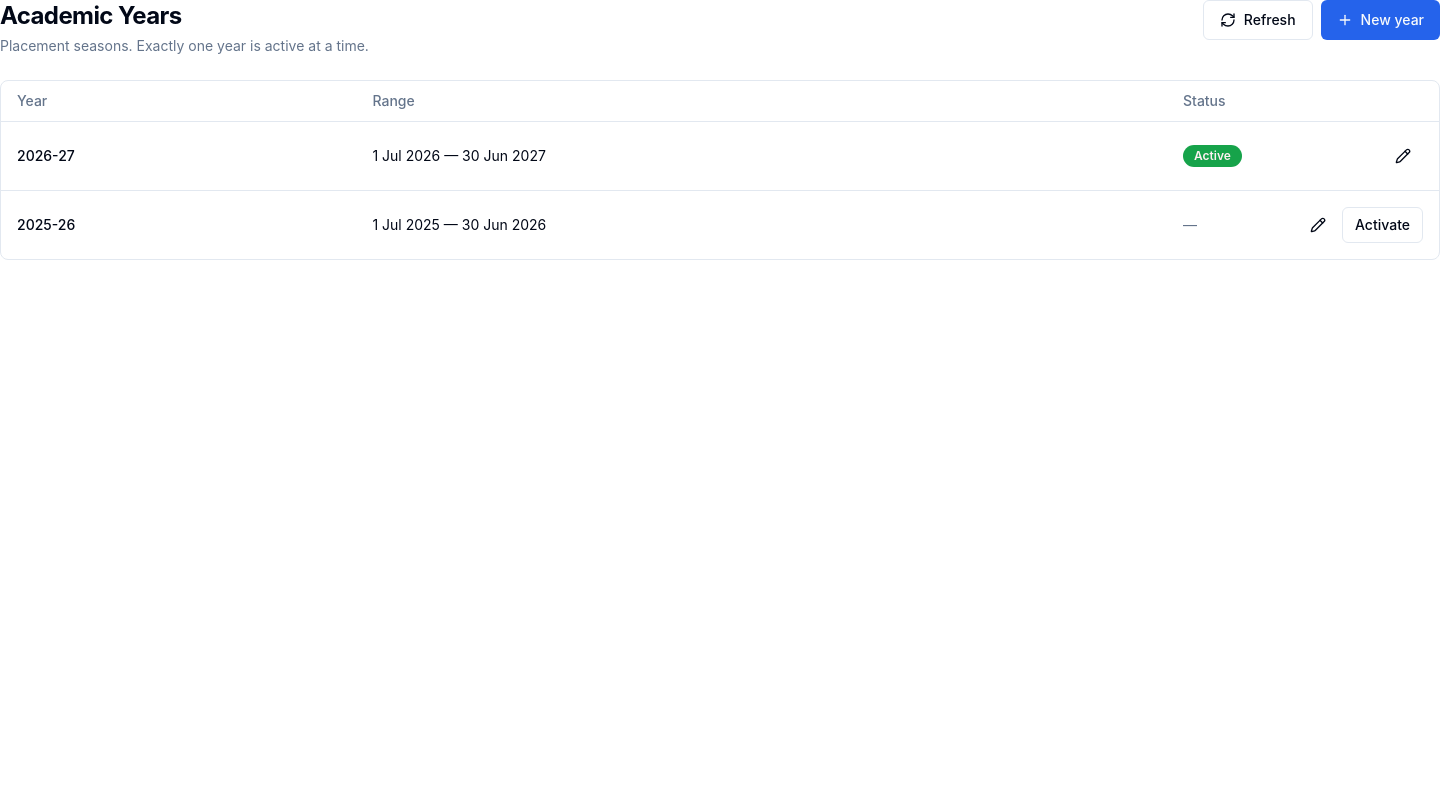
AcademicYearsPage › names the year being replaced before switching the active season
Expected: the text "2025-26" is shown, [17,216,75,232]
Click the button "Activate". click: (1382, 224)
box: [1342,206,1423,242]
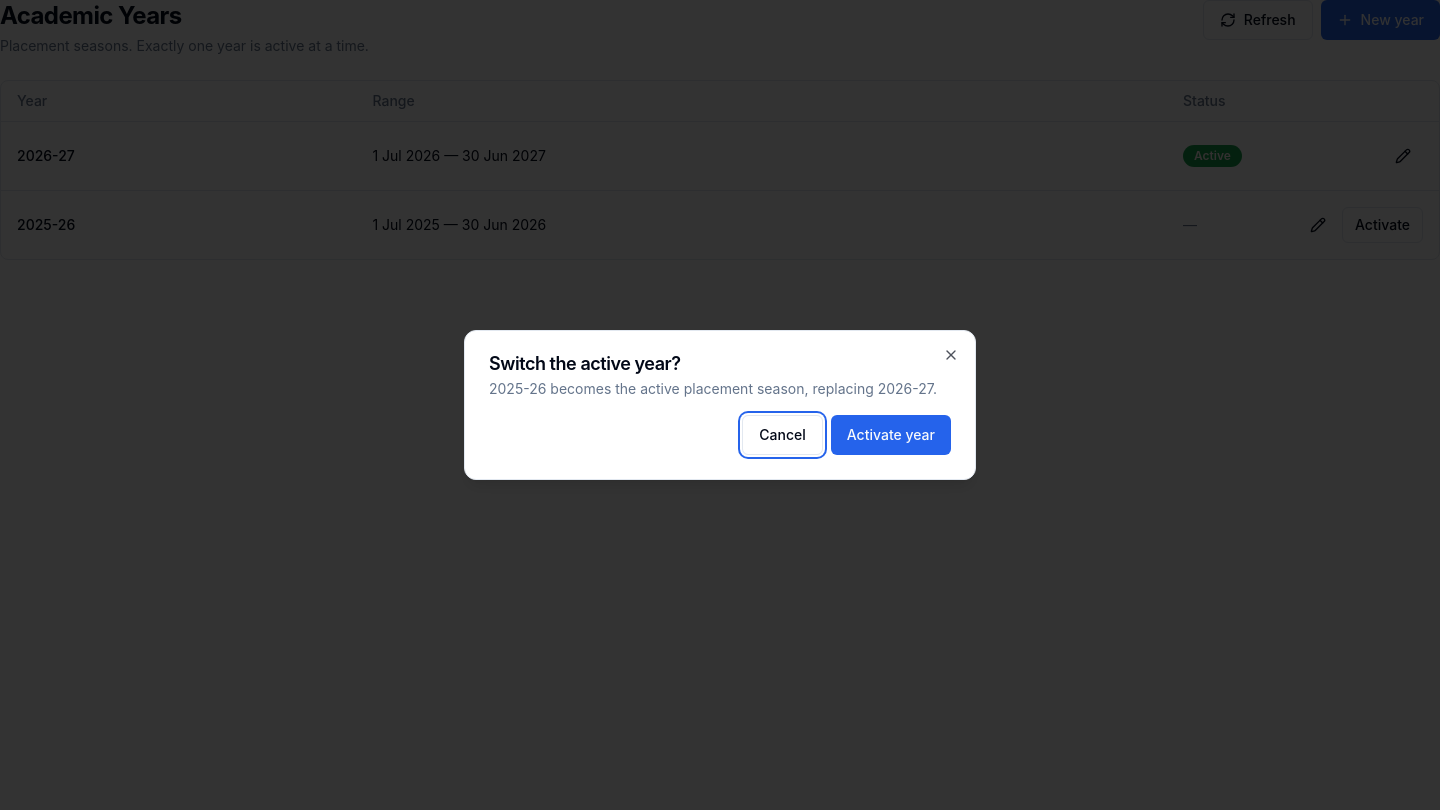
Now the text "2025-26 becomes the active placement season, replacing 2026-27." is shown, box [489,379,951,399]
Click the button "Activate year". click: (891, 435)
box: [831,415,951,455]
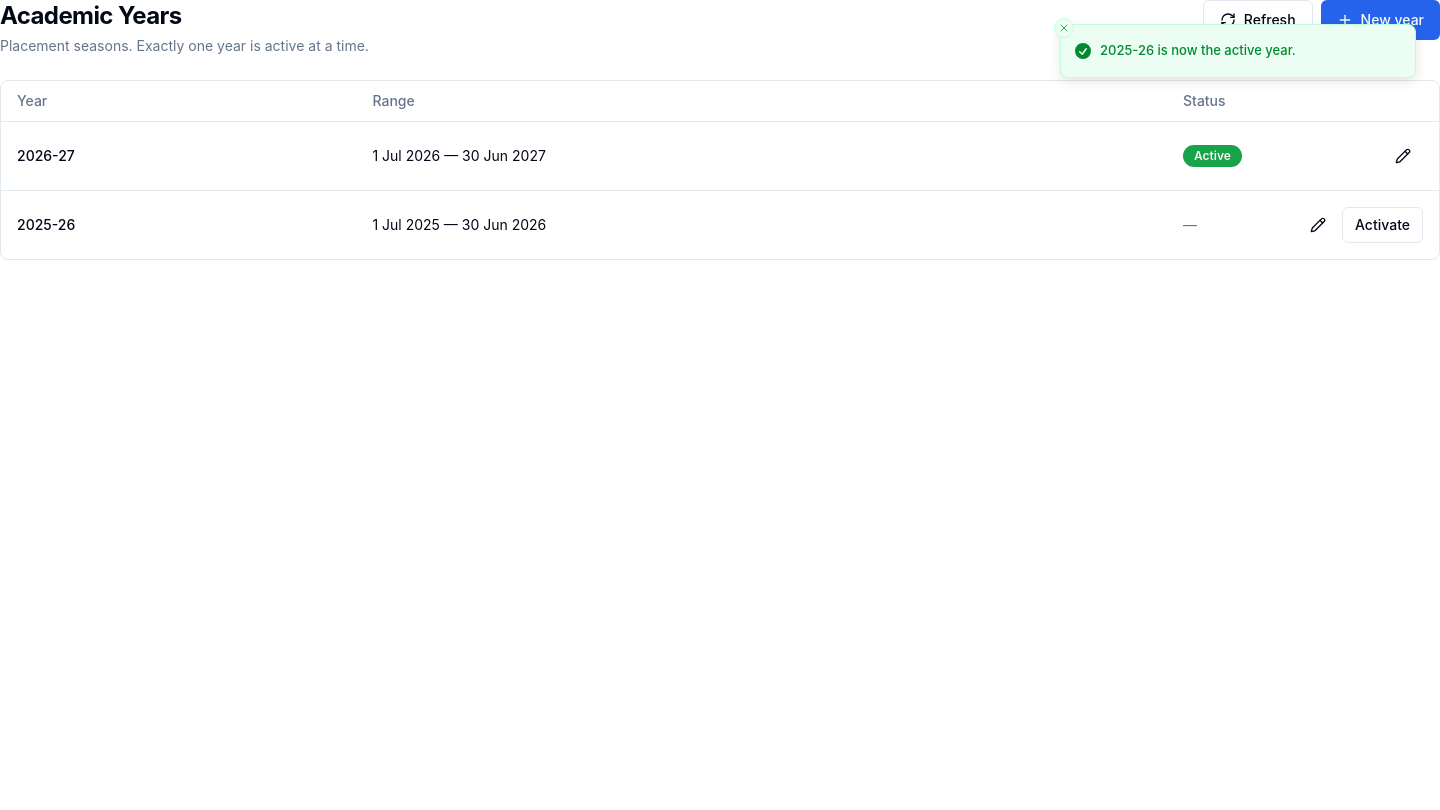
Now the text "2025-26 is now the active year." is shown, box [1100,41,1296,60]
